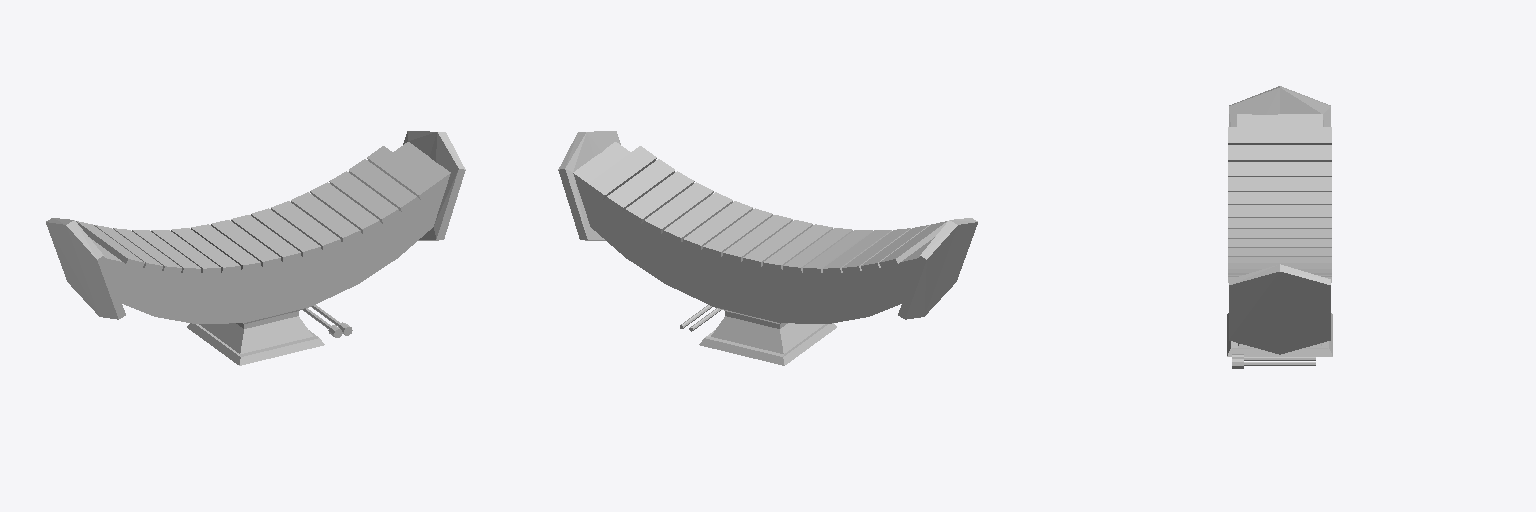
Rendered from Ranat-Texted.obj.
The picture shows the model from 3 angles: view 1: azimuth 30°, elevation 25°; view 2: azimuth 150°, elevation 25°; view 3: azimuth 270°, elevation 25°; orthographic projection.
Visible parts, largest first — view 1: Ranad.001, Cube; view 2: Ranad.001, Cube; view 3: Cube, Ranad.001.
Boxes of the visible parts, <box> form: Ranad.001: <box>46,131,465,365</box>; Cube: <box>76,146,437,273</box>; Ranad.001: <box>558,131,977,365</box>; Cube: <box>586,146,947,273</box>; Cube: <box>1228,127,1331,282</box>; Ranad.001: <box>1227,86,1332,368</box>.
Bounding box in the file's own units: 7.5 × 3.02 × 1.82.